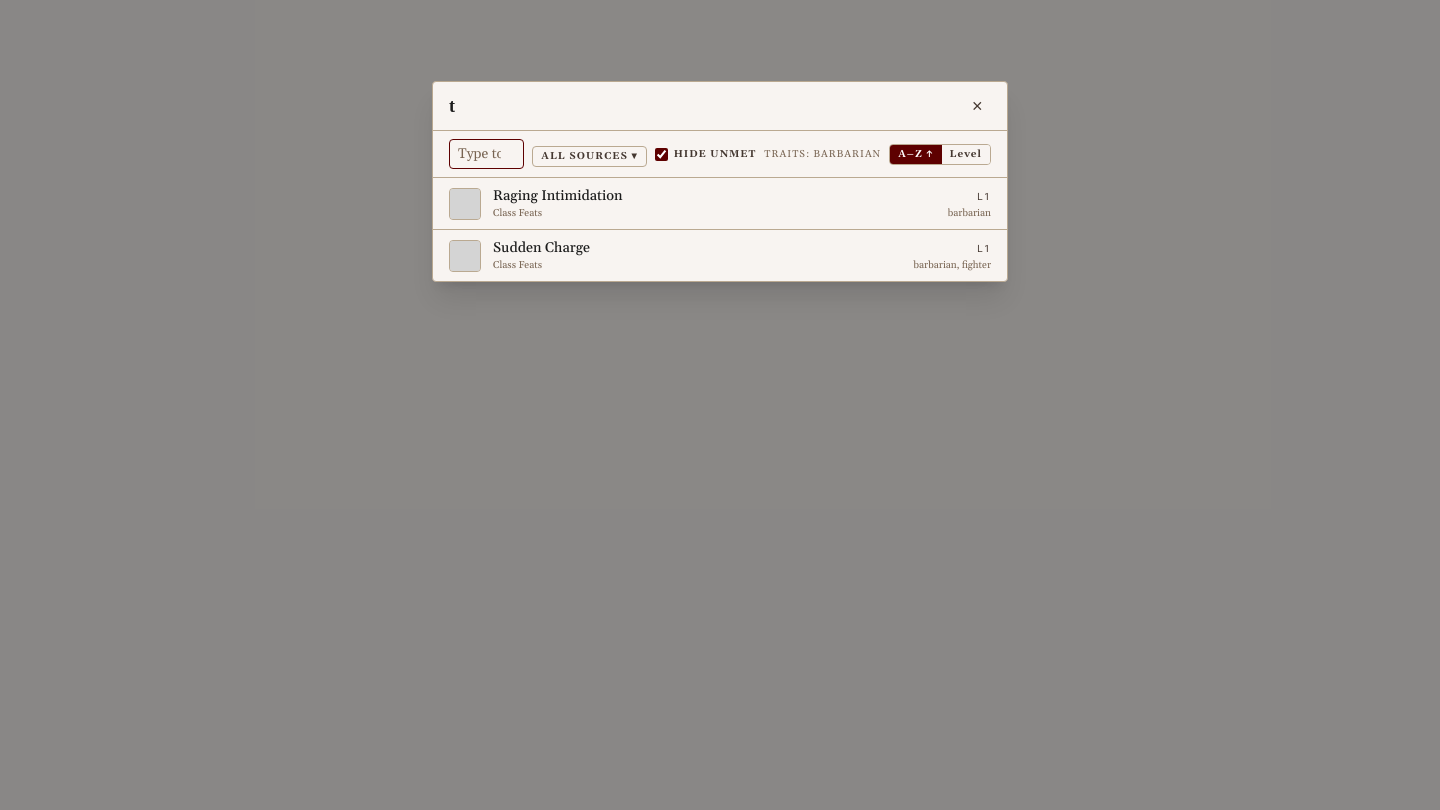
CreatorPicker › reverses direction when the active sort option is clicked again
Expected: the button "Raging Intimidation L1 Class Feats barbarian" is shown, top-left (433, 178), bottom-right (1007, 229)
# Click A-Z while already active → flips to desc.
Click the radio button labelled "A–Z ↑".
click(916, 154)  # box top-left (890, 144), bottom-right (942, 164)
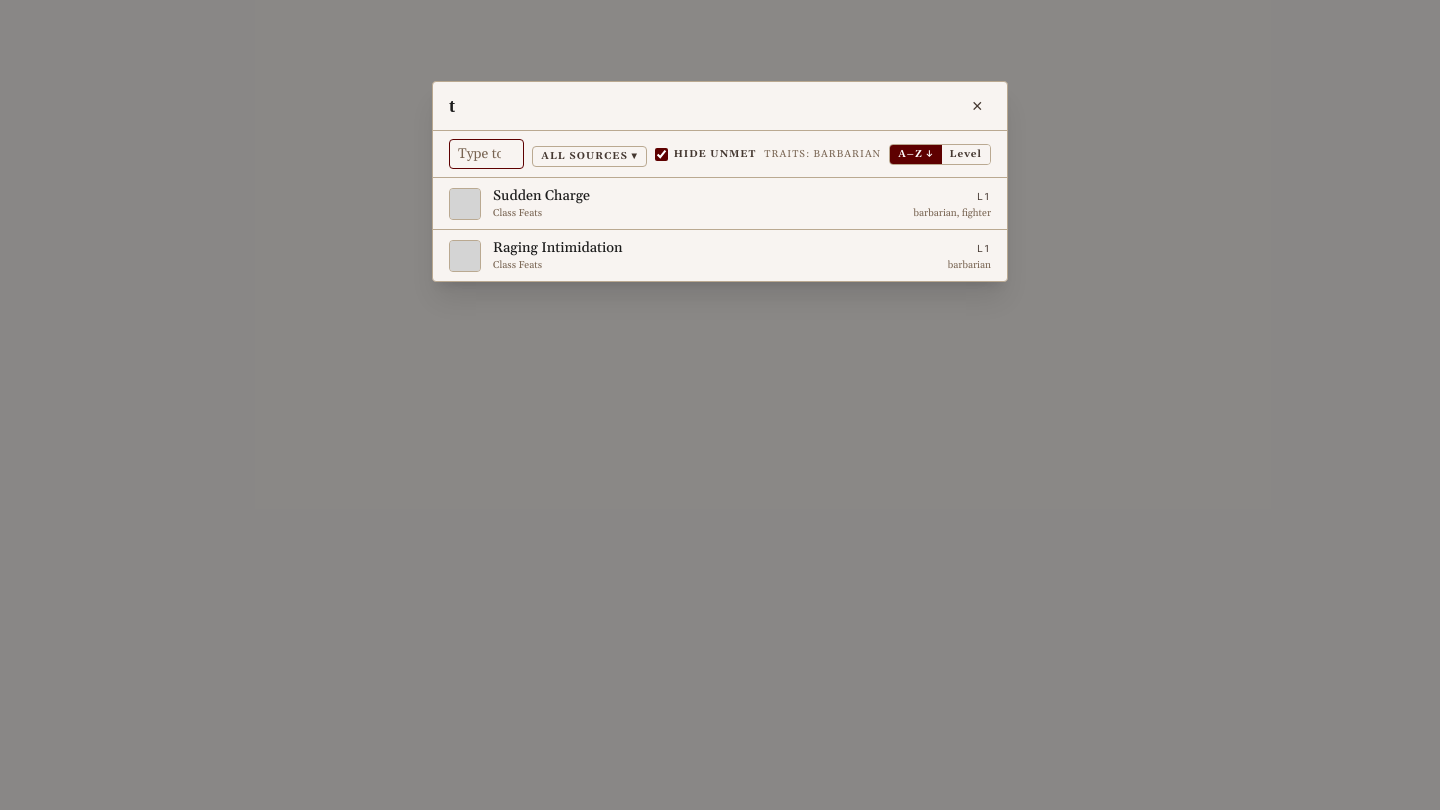
Expected: the radio button labelled "A–Z ↓" is shown, top-left (890, 144), bottom-right (942, 164)
